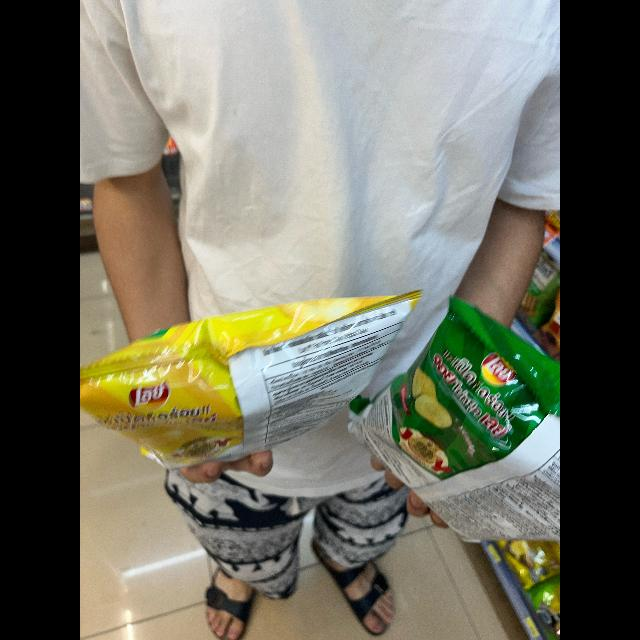snack_bag: (80, 283, 422, 475), (364, 270, 560, 558)
